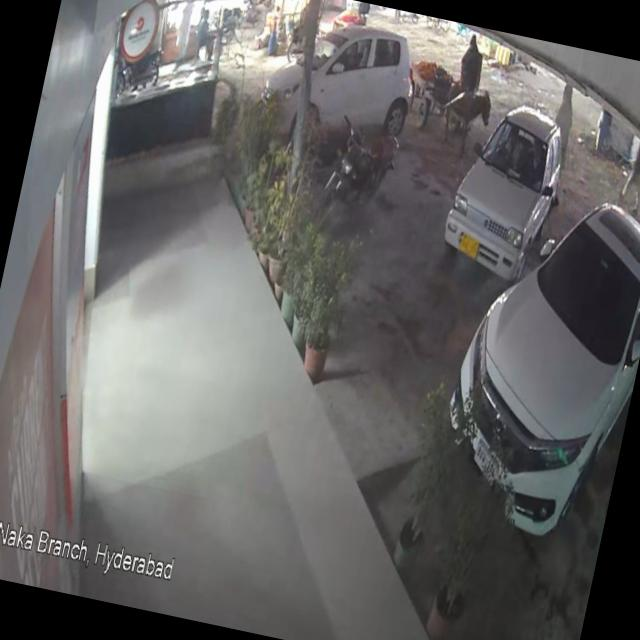Car: (421, 132, 640, 562), (434, 71, 580, 312), (235, 0, 431, 148)
Motorcycle: (316, 102, 406, 228)
